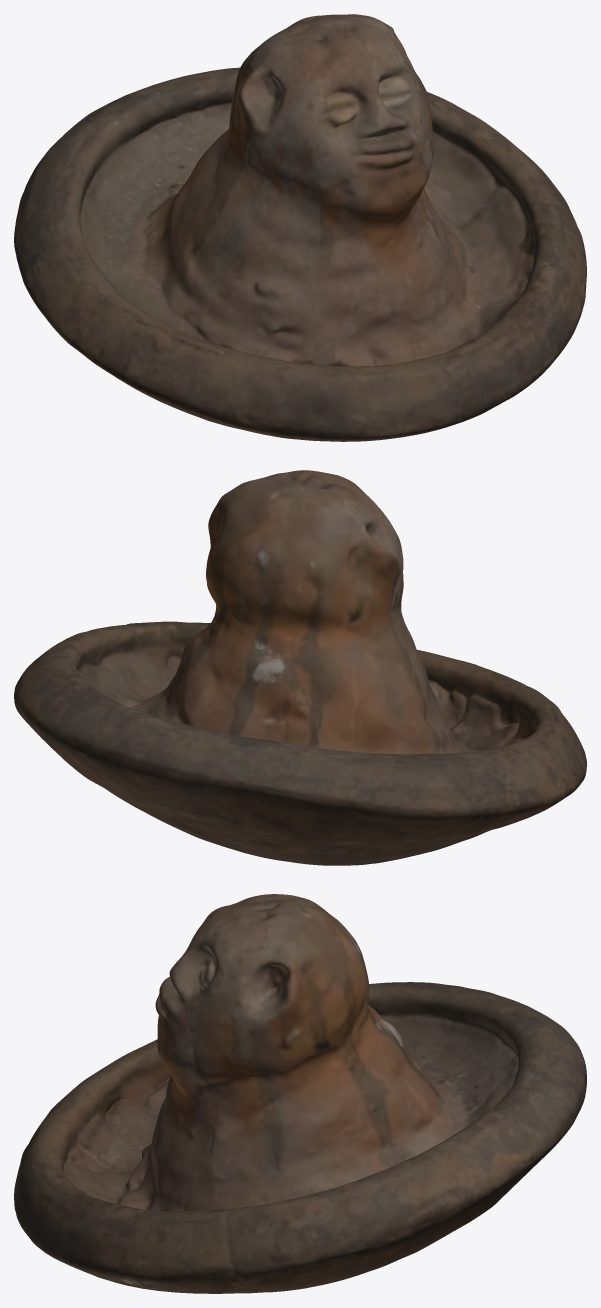
The model's file is preview.glb.
3 views of the same model, one above another, from view 1: azimuth 30°, elevation 25°; view 2: azimuth 150°, elevation 25°; view 3: azimuth 270°, elevation 25° (orthographic).
Visible parts, largest first — view 1: Object_2; view 2: Object_2; view 3: Object_2.
Part boxes in pixels (box(x1,y1,x2,y2)): Object_2: box(14, 14, 586, 441); Object_2: box(14, 470, 586, 865); Object_2: box(14, 894, 586, 1293).
Bounding box in the file's own units: 204 × 140 × 199.
Materials: 1 (1 with a texture image).
